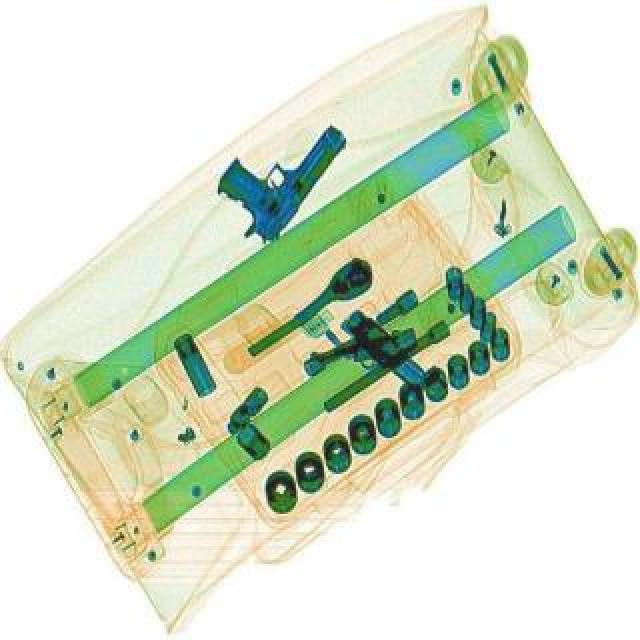gun: (196, 94, 348, 248), (302, 322, 430, 410)
